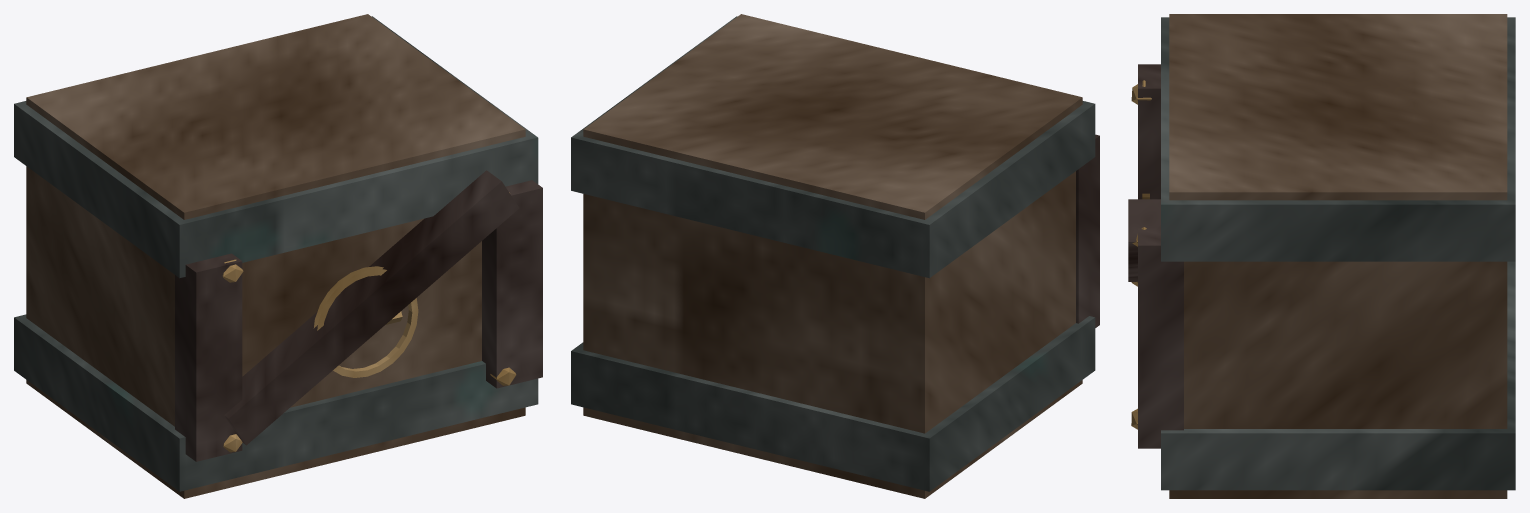
The model's file is 0736_supply_crate_11.glb.
3 renders of one model, left to right at view 1: azimuth 30°, elevation 25°; view 2: azimuth 150°, elevation 25°; view 3: azimuth 270°, elevation 25°, orthographic. The views are drawn at different scales.
Visible parts, largest first — view 1: wood, iron, wood_dark, brass; view 2: wood, iron, wood_dark; view 3: wood, iron, wood_dark, brass.
Boxes of the visible parts, box(x1,y1,x2,y2) form: wood: box(26, 14, 525, 498); iron: box(14, 16, 538, 491); wood_dark: box(175, 170, 542, 461); brass: box(222, 192, 516, 452); wood: box(583, 14, 1082, 498); iron: box(571, 16, 1095, 491); wood_dark: box(1076, 134, 1099, 327); wood: box(1169, 14, 1507, 498); iron: box(1161, 17, 1515, 490); wood_dark: box(1128, 64, 1183, 448); brass: box(1131, 80, 1151, 429).
Bounding box in the file's own units: 0.7749 × 0.5911 × 0.6771.
Materials: 4 (4 with a texture image).
